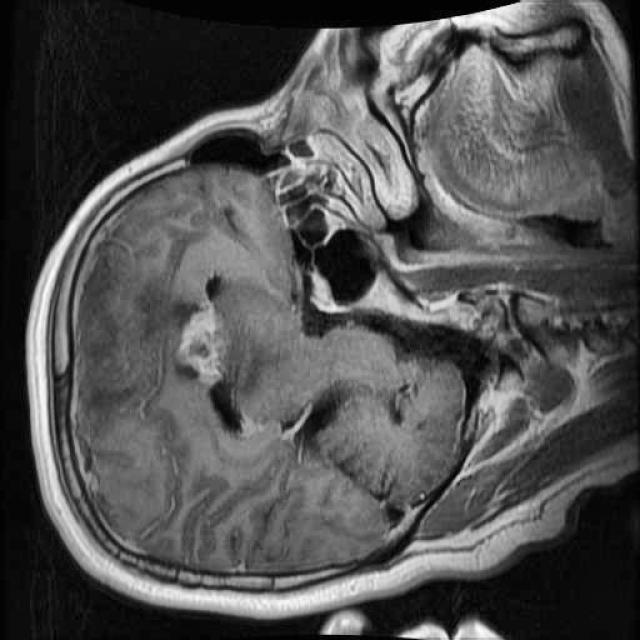Tumor: (158, 276, 254, 403)
